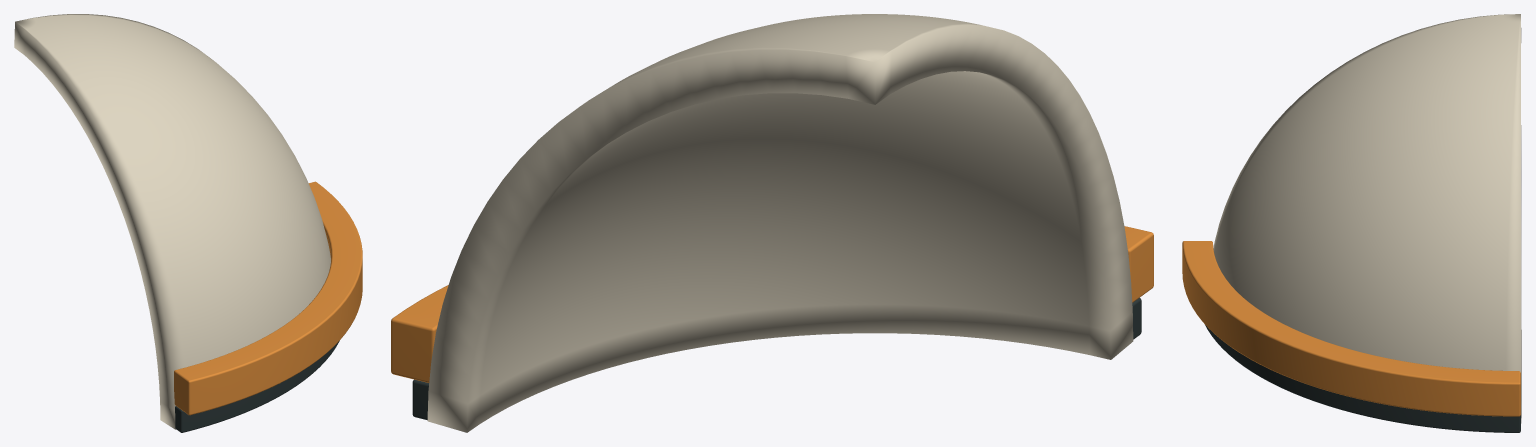
Rendered from roof-corner-r050.glb.
3 views of the same model, side by side, from view 1: azimuth 30°, elevation 25°; view 2: azimuth 150°, elevation 25°; view 3: azimuth 270°, elevation 25° (orthographic). The views are drawn at different scales.
Parts seen in each view (by area): view 1: roof-corner-r050 / 01 • warm porcelain paint, roof-corner-r050 / 03 • ochre enamel, roof-corner-r050 / 04 • graphite gasket; view 2: roof-corner-r050 / 01 • warm porcelain paint, roof-corner-r050 / 03 • ochre enamel, roof-corner-r050 / 04 • graphite gasket; view 3: roof-corner-r050 / 01 • warm porcelain paint, roof-corner-r050 / 03 • ochre enamel, roof-corner-r050 / 04 • graphite gasket.
Part boxes in pixels (box(x1,y1,x2,y2)): roof-corner-r050 / 01 • warm porcelain paint: box(14, 14, 330, 429); roof-corner-r050 / 03 • ochre enamel: box(174, 181, 362, 415); roof-corner-r050 / 04 • graphite gasket: box(175, 340, 339, 432); roof-corner-r050 / 01 • warm porcelain paint: box(427, 14, 1133, 432); roof-corner-r050 / 03 • ochre enamel: box(391, 226, 1153, 382); roof-corner-r050 / 04 • graphite gasket: box(412, 298, 1141, 420); roof-corner-r050 / 01 • warm porcelain paint: box(1213, 14, 1521, 423); roof-corner-r050 / 03 • ochre enamel: box(1182, 241, 1520, 416); roof-corner-r050 / 04 • graphite gasket: box(1205, 325, 1520, 432).
Size of the model in its own units: 0.543 by 0.5015 by 0.543.
